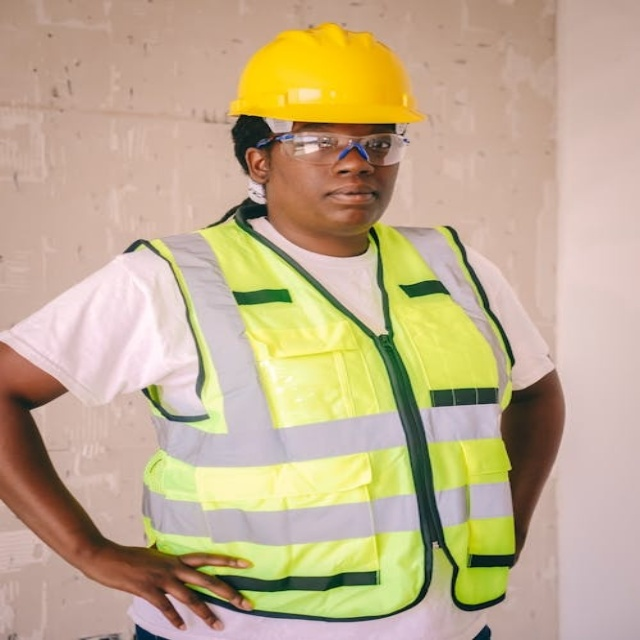Gafas: (252, 130, 411, 170)
Sin_guantes: (116, 545, 256, 632)
Sin_mascara: (316, 180, 384, 227)
